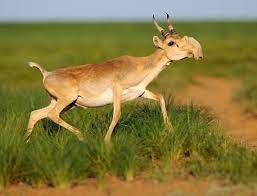saiga: (21, 11, 204, 144)
